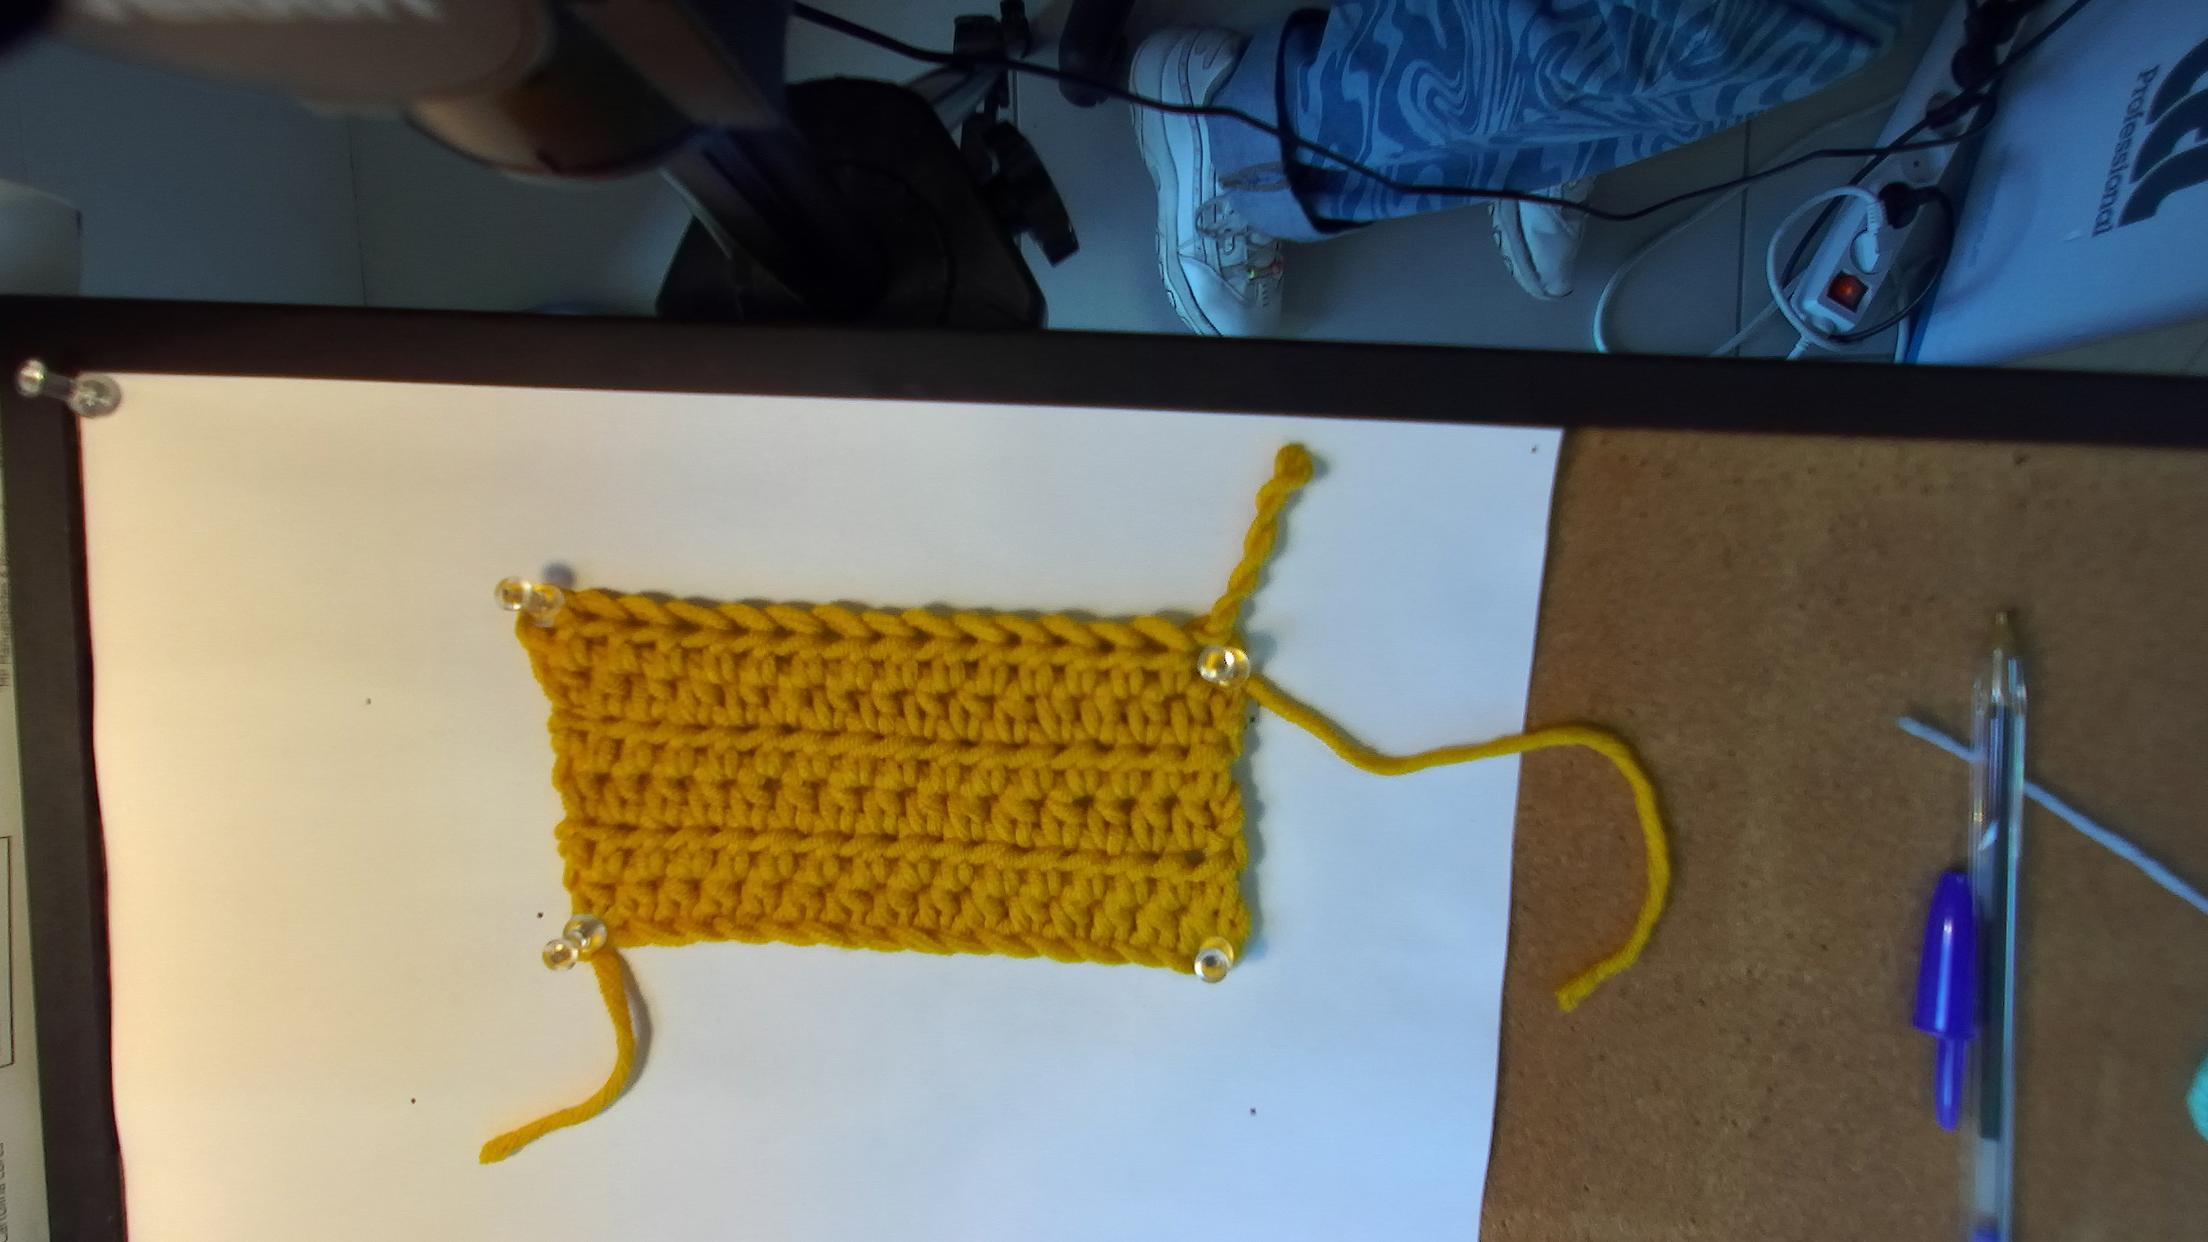hole: (722, 619, 751, 642), (668, 617, 705, 635), (817, 624, 845, 644), (620, 616, 651, 633), (1141, 635, 1168, 654), (575, 609, 607, 624), (907, 629, 935, 646), (770, 625, 796, 641), (1046, 632, 1069, 648), (866, 627, 885, 645), (1188, 641, 1207, 659), (1004, 632, 1022, 649), (1097, 638, 1116, 652), (958, 633, 978, 644)
swatch: (508, 585, 1268, 986)
